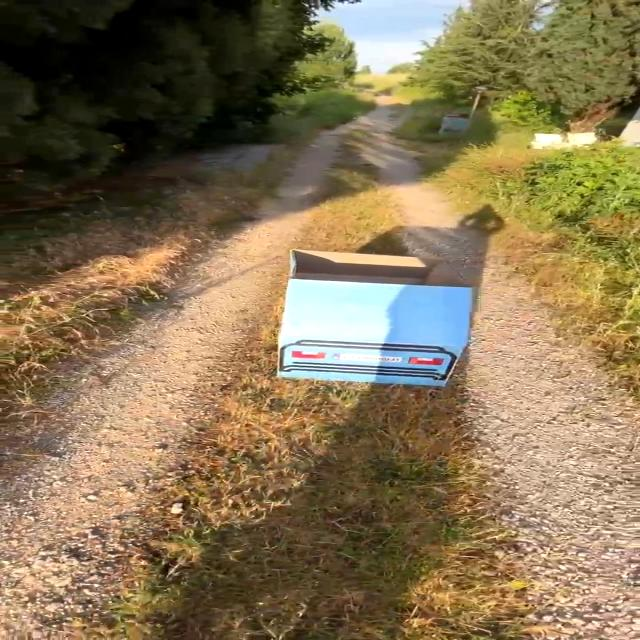blue_car: (217, 223, 485, 422)
